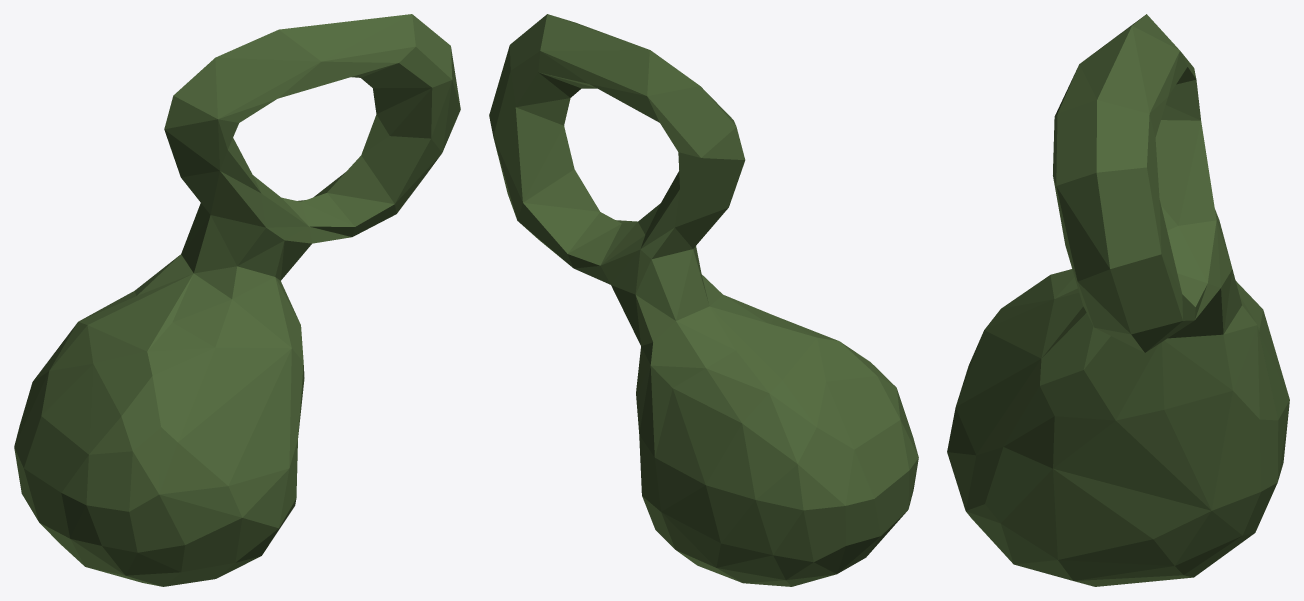
File: algae02.fbx
The picture shows the model from 3 angles, left to right: view 1: azimuth 30°, elevation 25°; view 2: azimuth 150°, elevation 25°; view 3: azimuth 270°, elevation 25°; orthographic projection. The views are drawn at different scales.
Parts seen in each view (by area): view 1: algae_02; view 2: algae_02; view 3: algae_02.
Part boxes in pixels (left/top/right/bottom): algae_02: left=14, top=14, right=460, bottom=586; algae_02: left=489, top=14, right=918, bottom=586; algae_02: left=947, top=14, right=1289, bottom=586.
Size of the model in its own units: 50.74 by 59.16 by 29.83.
